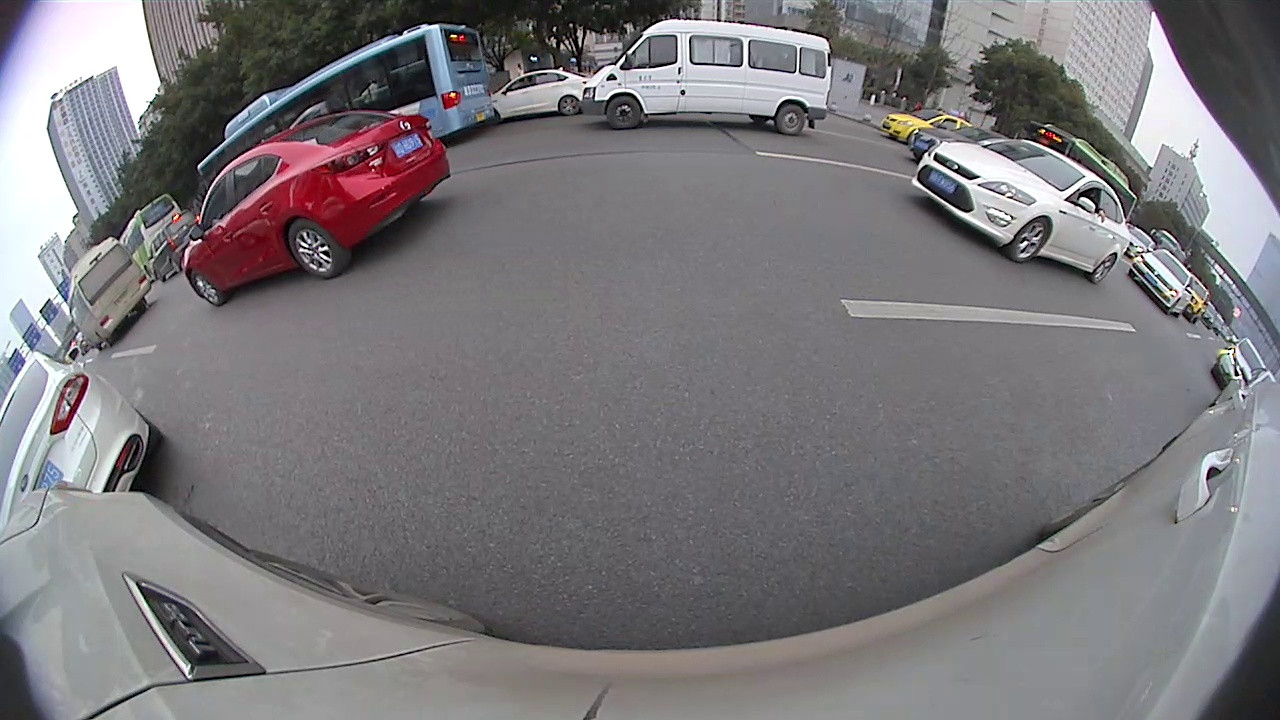bus: (199, 26, 496, 207), (70, 238, 155, 348)
car: (183, 114, 450, 306), (910, 139, 1128, 285), (2, 357, 163, 534), (591, 21, 831, 133), (494, 68, 588, 123), (1128, 249, 1195, 316), (142, 211, 201, 282)
front: (1007, 215, 1053, 261), (187, 268, 227, 309), (605, 93, 644, 132)
rear: (286, 216, 346, 280), (775, 103, 806, 137), (1090, 250, 1119, 286), (557, 92, 579, 114)
